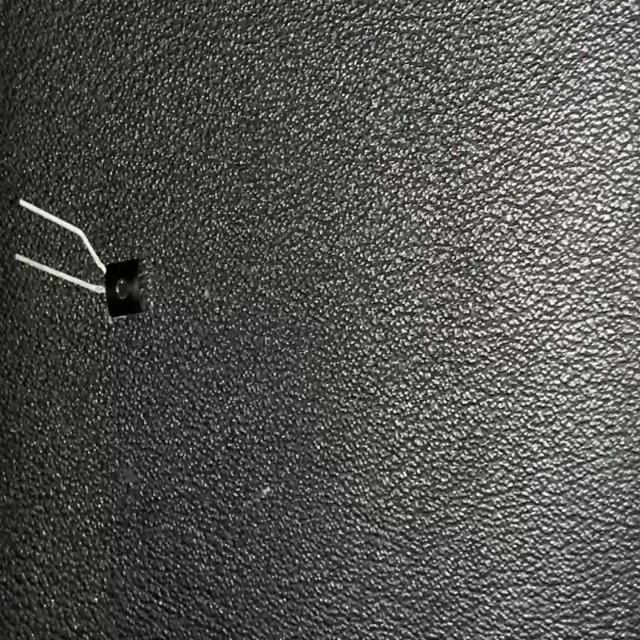missing-leg: (13, 198, 148, 322)
